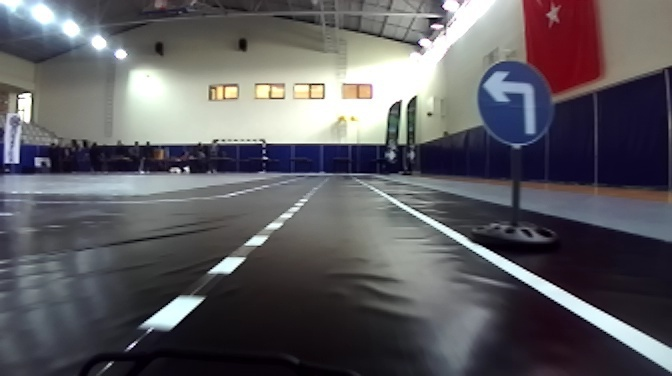sola_donus: (468, 60, 557, 141)
